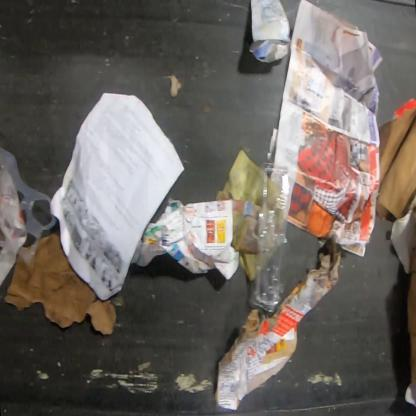cardboard: (214, 234, 344, 412), (2, 227, 118, 336), (376, 105, 415, 224), (248, 0, 293, 65), (406, 246, 415, 385), (390, 97, 416, 121)
rigid_plastic: (246, 161, 296, 317)
soft_plastic: (0, 146, 58, 266)
